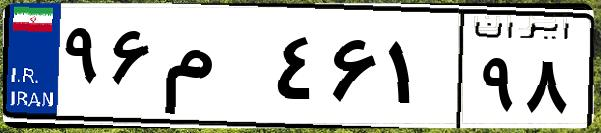1: (385, 28, 445, 110)
4: (270, 28, 330, 110)
6: (330, 28, 385, 110), (110, 28, 158, 98)
8: (525, 38, 570, 115)
9: (57, 26, 110, 100), (475, 38, 525, 113)
م: (158, 20, 270, 120)
